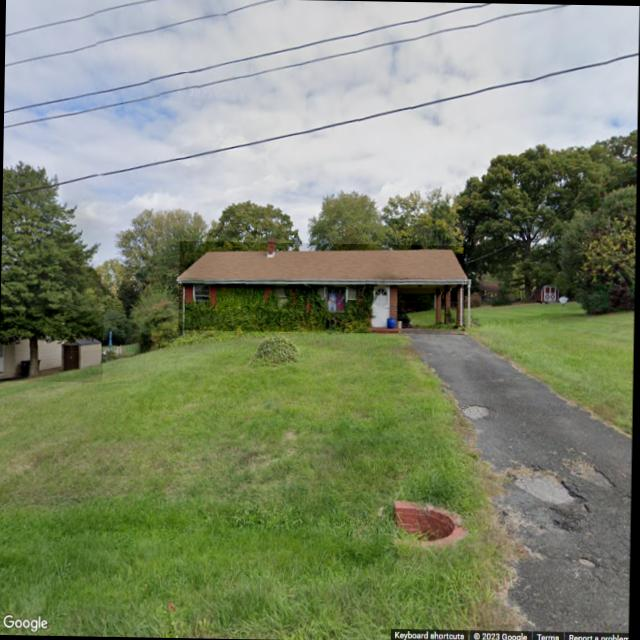House: (178, 240, 466, 334), (0, 308, 103, 382)
